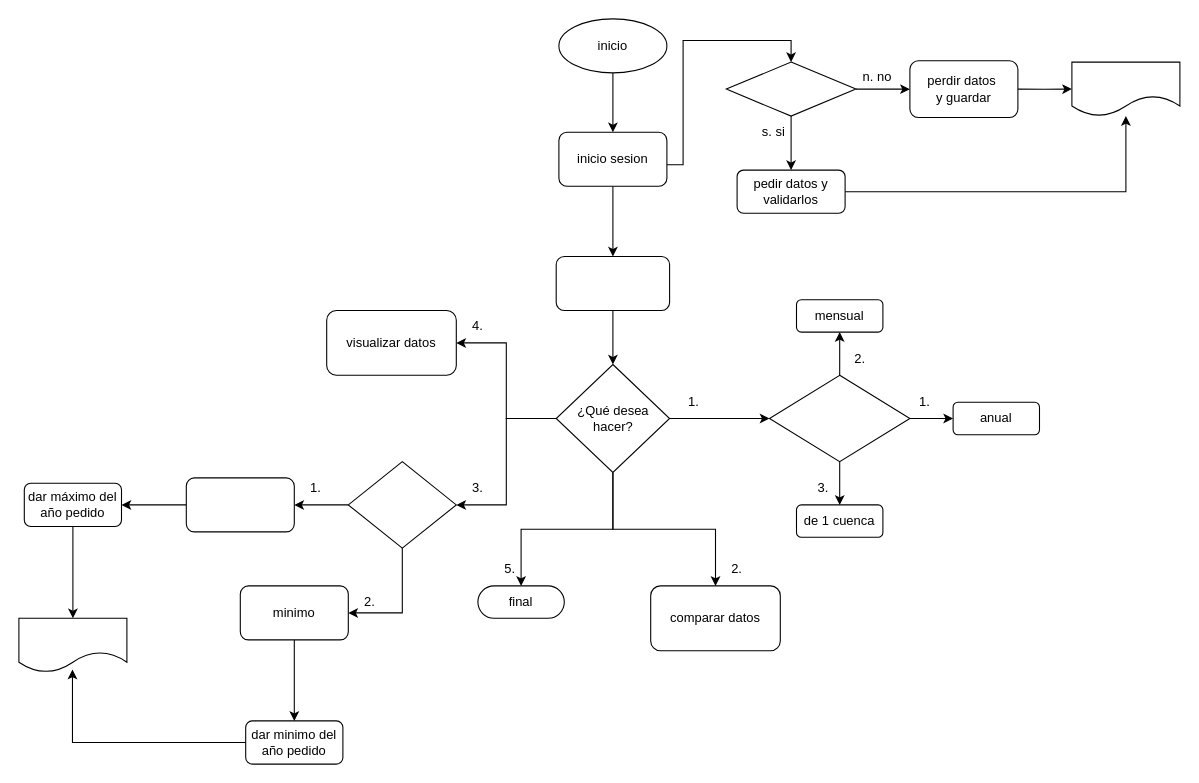
Some shapes in this 1199 by 783 pixel diagram are drawn without their labels. Here are the shapes that lost their labels. From the top down, the centre of each, then its label:
At [790,88]: "¿tienes cuenta?".
At [1125,88]: "fichero ususarios.txt".
At [612,282]: "Menú:".
At [839,418]: "calcular media".
At [239,504]: "maximo".
At [401,504]: "máximos y mínimos".
At [72,644]: "fichero dataset.csv".
